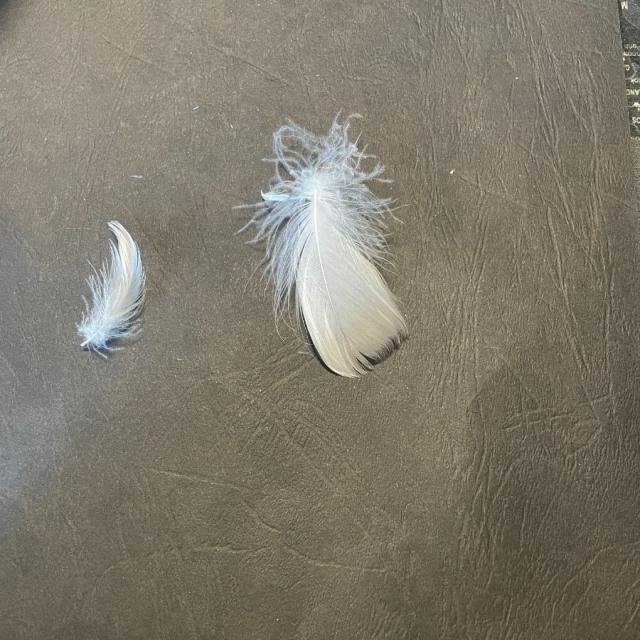feather: (232, 109, 410, 381), (75, 216, 147, 354)
